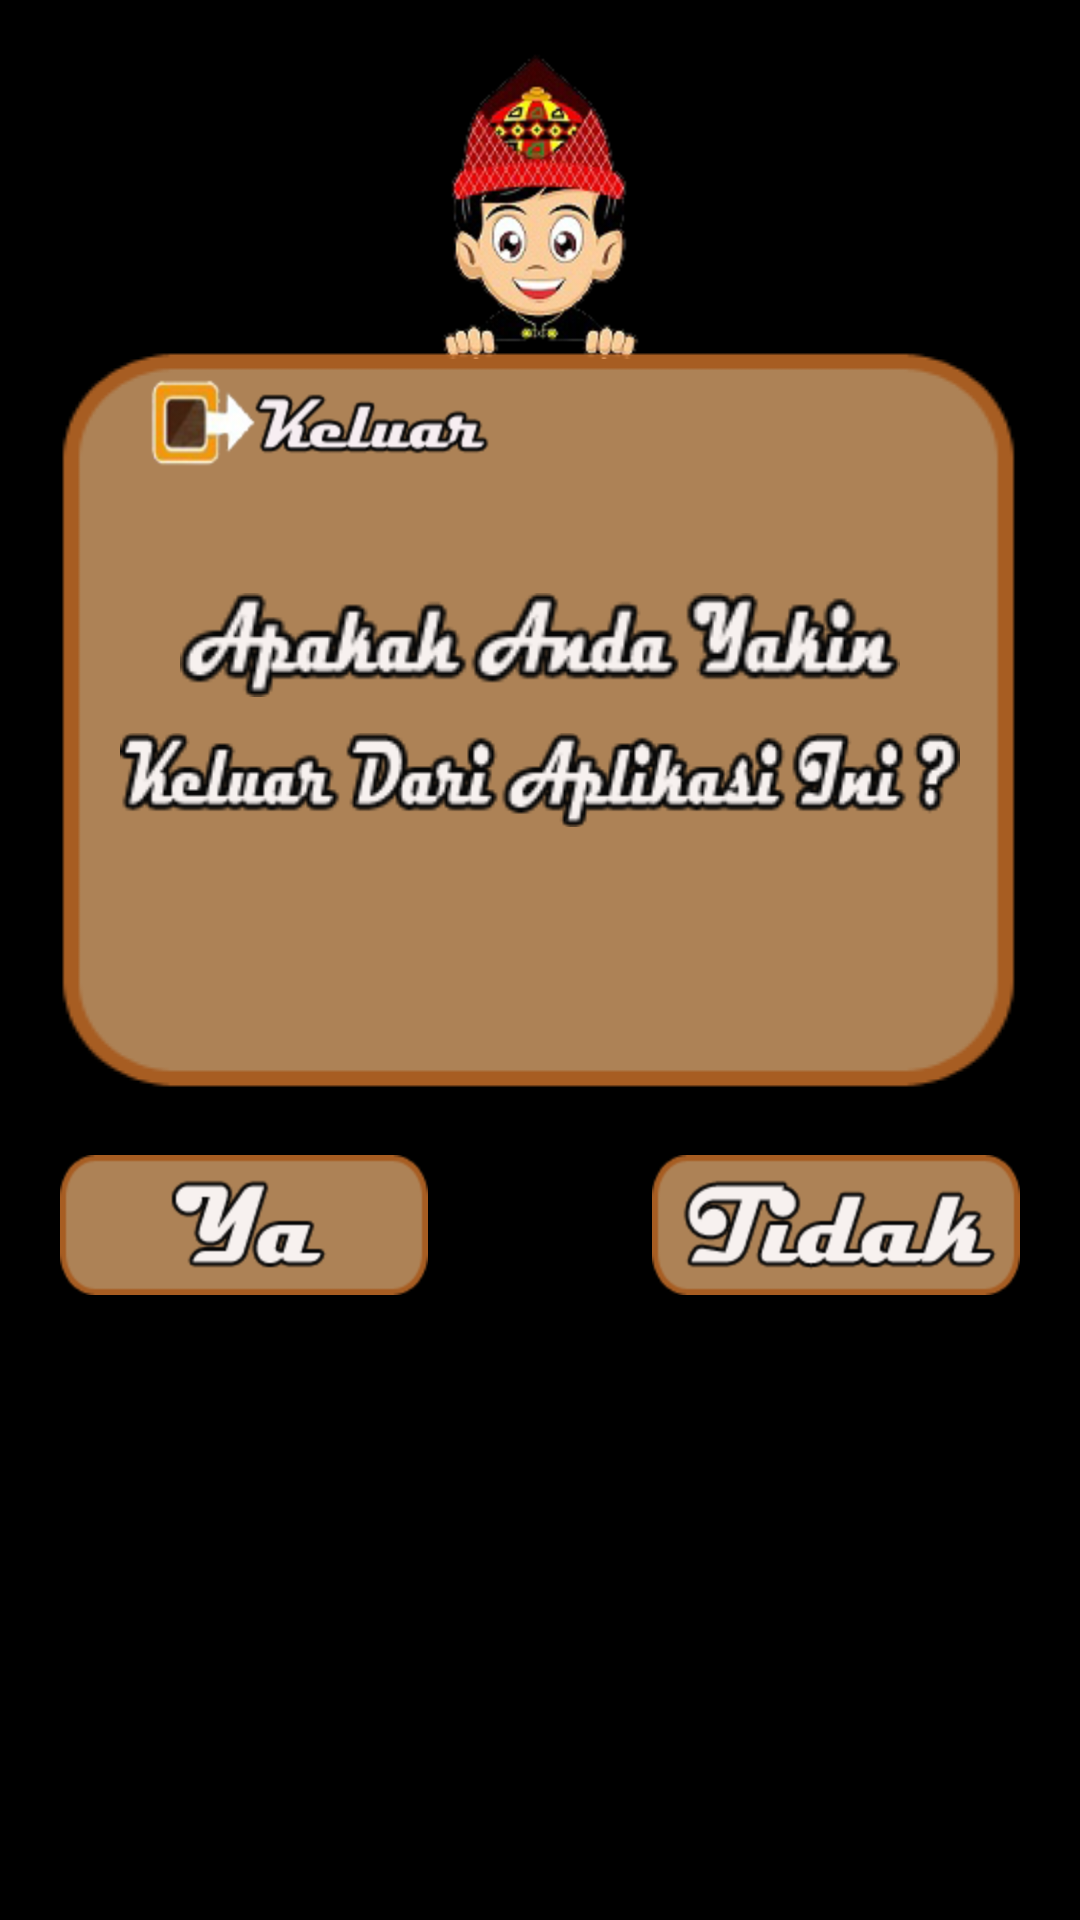

Icon bounding boxes for this 1080 x 1920 phone screenshot, format (x1, y1, x2, y2):
orang: (452, 58, 626, 341)
